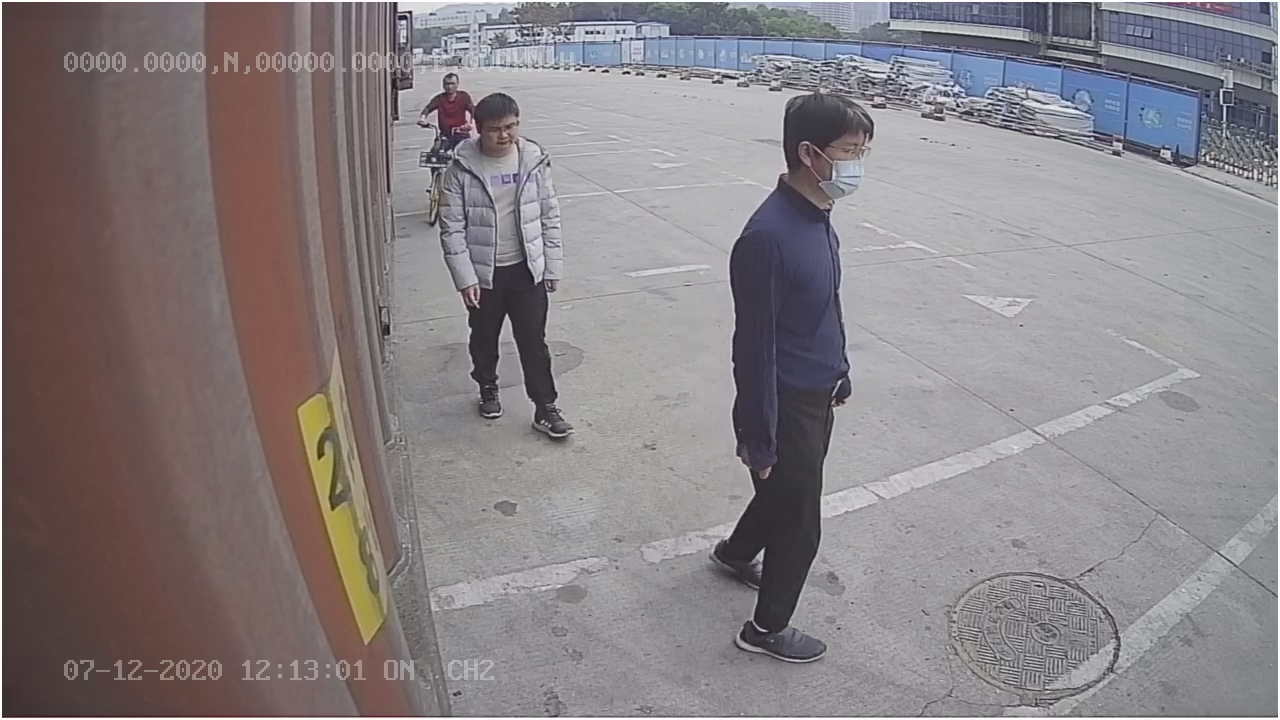person: (709, 96, 880, 663)
